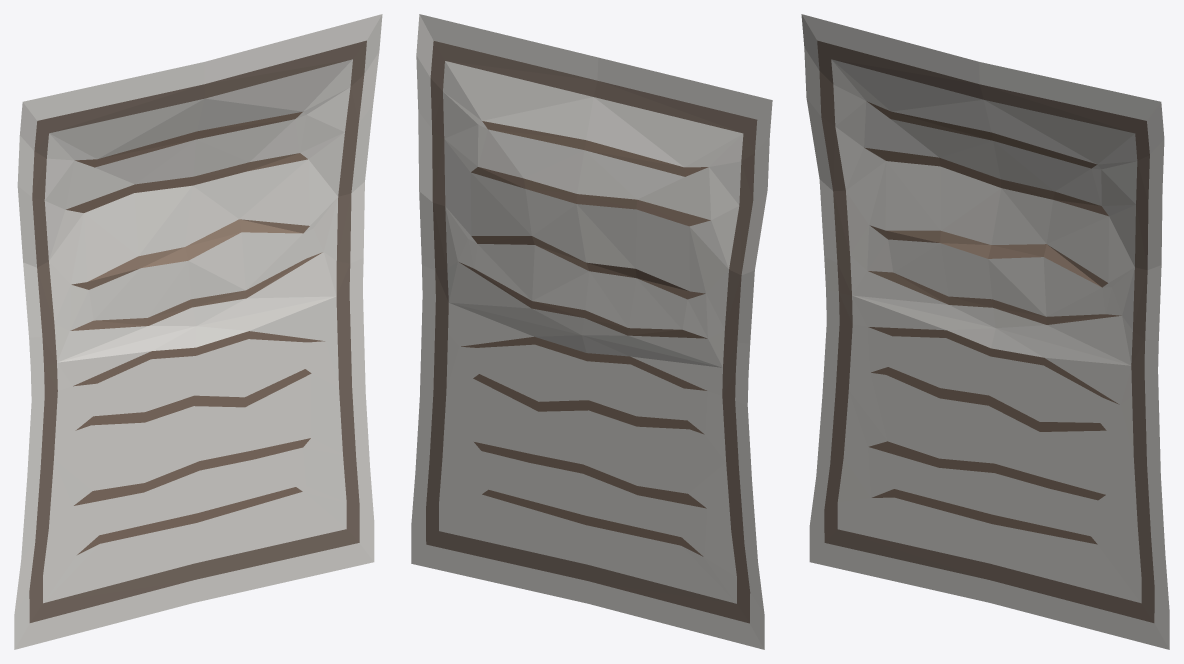
The model's file is SFHW_Paper_034.fbx.
The picture shows the model from 3 angles, left to right: view 1: azimuth 30°, elevation 25°; view 2: azimuth 150°, elevation 25°; view 3: azimuth 330°, elevation 25°; orthographic projection.
Parts seen in each view (by area): view 1: SFHW_Paper_034; view 2: SFHW_Paper_034; view 3: SFHW_Paper_034.
Boxes of the visible parts, x1,y1,x2,y2 form: SFHW_Paper_034: (14,14,382,649); SFHW_Paper_034: (411,14,772,649); SFHW_Paper_034: (801,14,1169,649).
Size of the model in its own units: 17.01 by 25.03 by 1.42.
